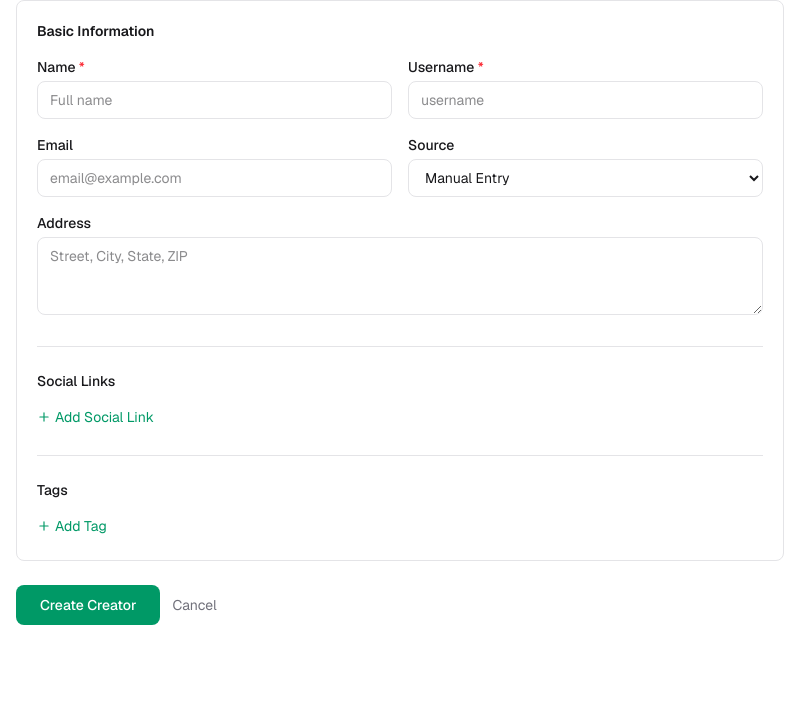
Test: CreatorForm › handles network error
Type "Alice Chen" into the field with placeholder "Full name". click: coordinates (214, 100)
box: [37, 81, 392, 119]
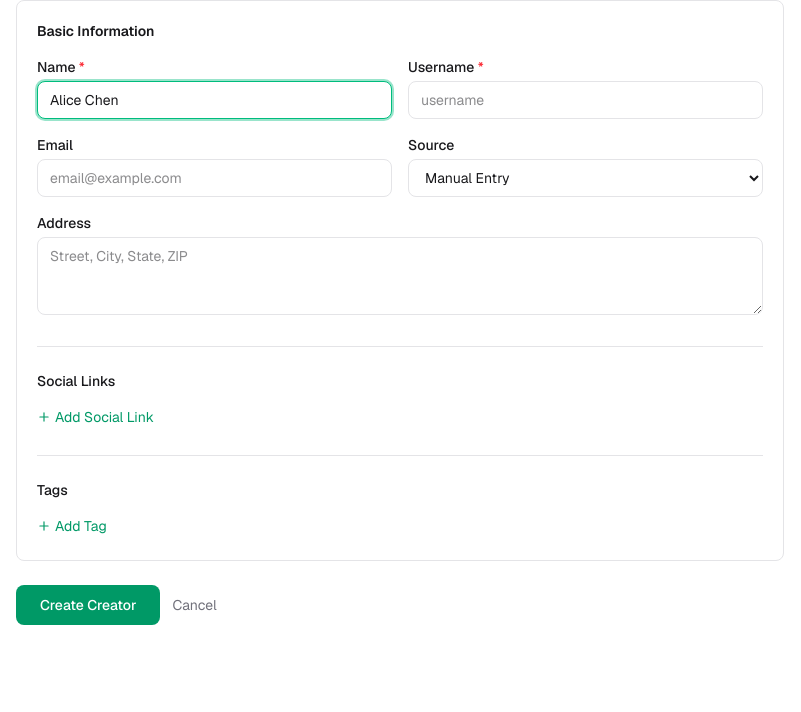
Type "alicechen" into the field with placeholder "username". click: coordinates (586, 100)
box: [408, 81, 763, 119]
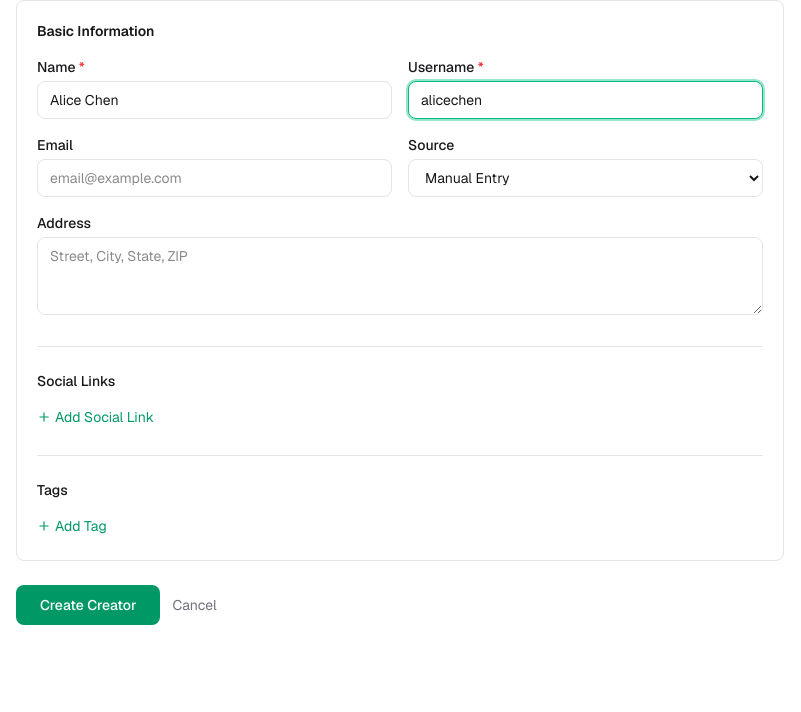
Click the button "Create Creator". click: coordinates (88, 605)
box: [16, 585, 160, 625]
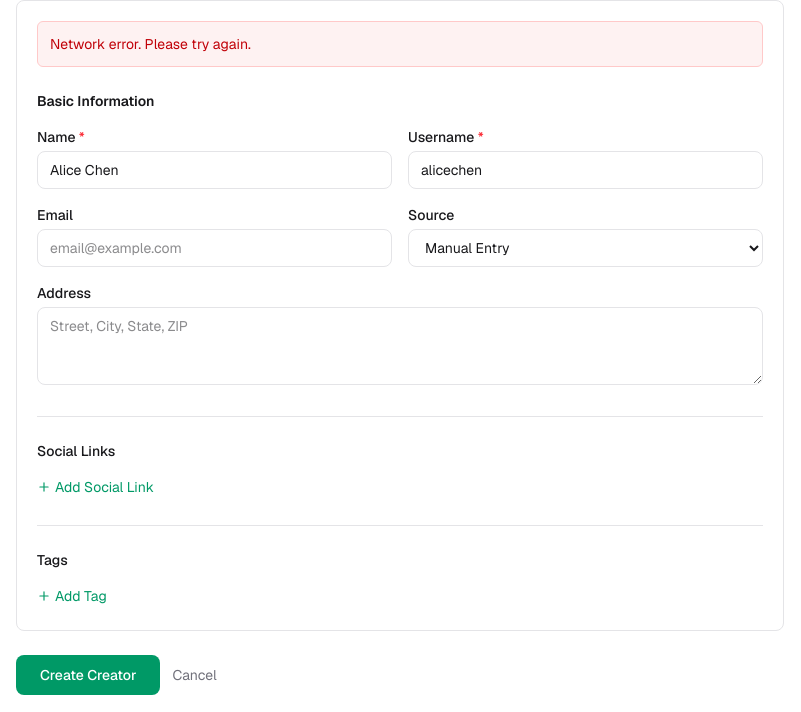
Expected: the text "Network error. Please try again." is shown, [37, 21, 763, 67]
